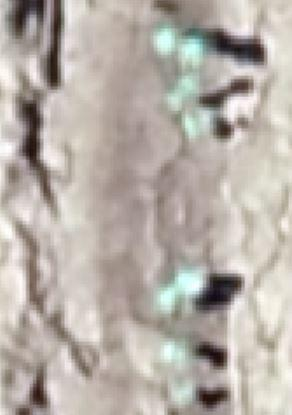cotton: (156, 28, 204, 59), (160, 274, 197, 310), (168, 77, 198, 110), (183, 111, 208, 136), (170, 383, 192, 410), (168, 343, 193, 363)
